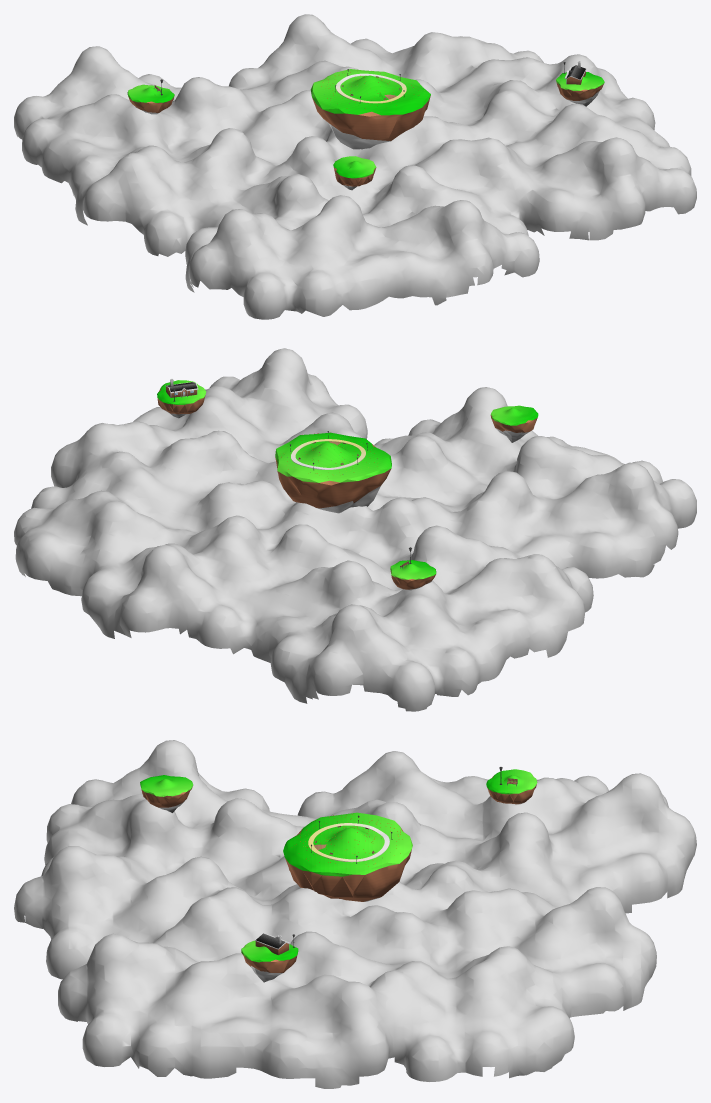
The picture shows the model from 3 angles, top to bottom: view 1: azimuth 30°, elevation 25°; view 2: azimuth 150°, elevation 25°; view 3: azimuth 270°, elevation 25°; orthographic projection. The views are drawn at different scales.
Parts seen in each view (by area): view 1: Mball.432, Icosphere.004, Icosphere.003, Icosphere.001, Icosphere.002, Cube; view 2: Mball.432, Icosphere.004, Icosphere.003, Icosphere.001, Icosphere.002, Cube; view 3: Mball.432, Icosphere.004, Icosphere.003, Icosphere.001, Icosphere.002, Cube.
Boxes of the visible parts, x1=… form: Mball.432: x1=14, y1=14, x2=696, y2=319; Icosphere.004: x1=310, y1=69, x2=430, y2=149; Icosphere.003: x1=333, y1=156, x2=376, y2=190; Icosphere.001: x1=127, y1=84, x2=174, y2=114; Icosphere.002: x1=556, y1=72, x2=604, y2=106; Cube: x1=335, y1=73, x2=406, y2=103; Mball.432: x1=14, y1=348, x2=696, y2=711; Icosphere.004: x1=275, y1=432, x2=391, y2=513; Icosphere.003: x1=490, y1=405, x2=538, y2=442; Icosphere.001: x1=390, y1=560, x2=436, y2=590; Icosphere.002: x1=157, y1=380, x2=206, y2=418; Cube: x1=291, y1=439, x2=365, y2=469; Mball.432: x1=14, y1=740, x2=696, y2=1088; Icosphere.004: x1=283, y1=812, x2=412, y2=901; Icosphere.003: x1=140, y1=775, x2=193, y2=812; Icosphere.001: x1=486, y1=769, x2=537, y2=804; Icosphere.002: x1=241, y1=940, x2=298, y2=982; Cube: x1=308, y1=823, x2=389, y2=862.
Size of the model in its own units: 442 by 90.87 by 439.
Materials: 10 (1 with a texture image).
